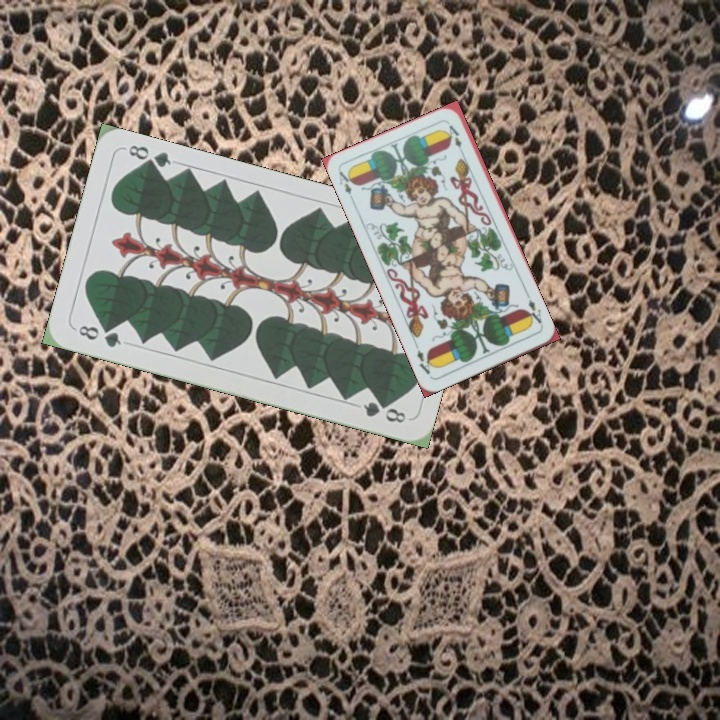EA: (522, 291, 545, 329), (334, 167, 358, 197)
G8: (71, 321, 124, 350)
